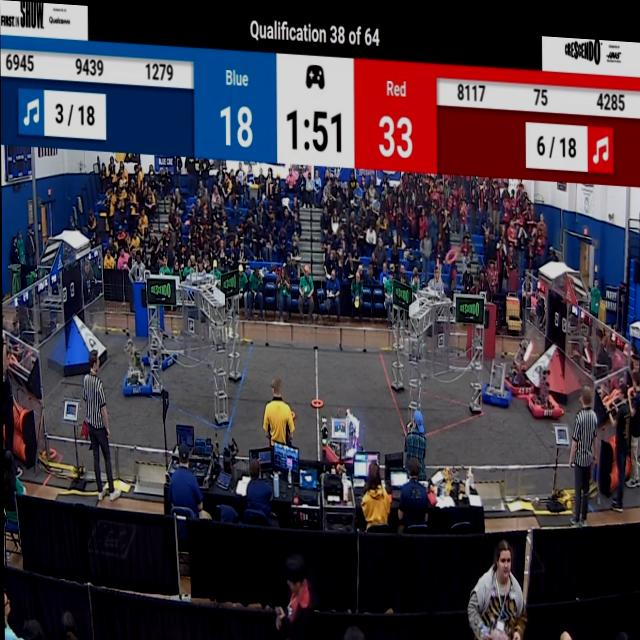Robot: (319, 396, 367, 467), (522, 339, 563, 417), (507, 322, 537, 392), (121, 335, 151, 398), (481, 348, 511, 405), (145, 320, 177, 372)
